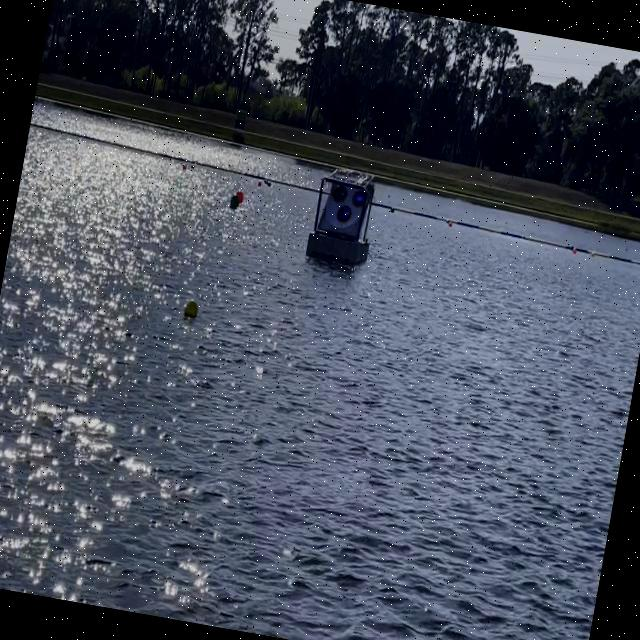buoy: (180, 298, 202, 324), (228, 194, 242, 212), (234, 190, 245, 205)
